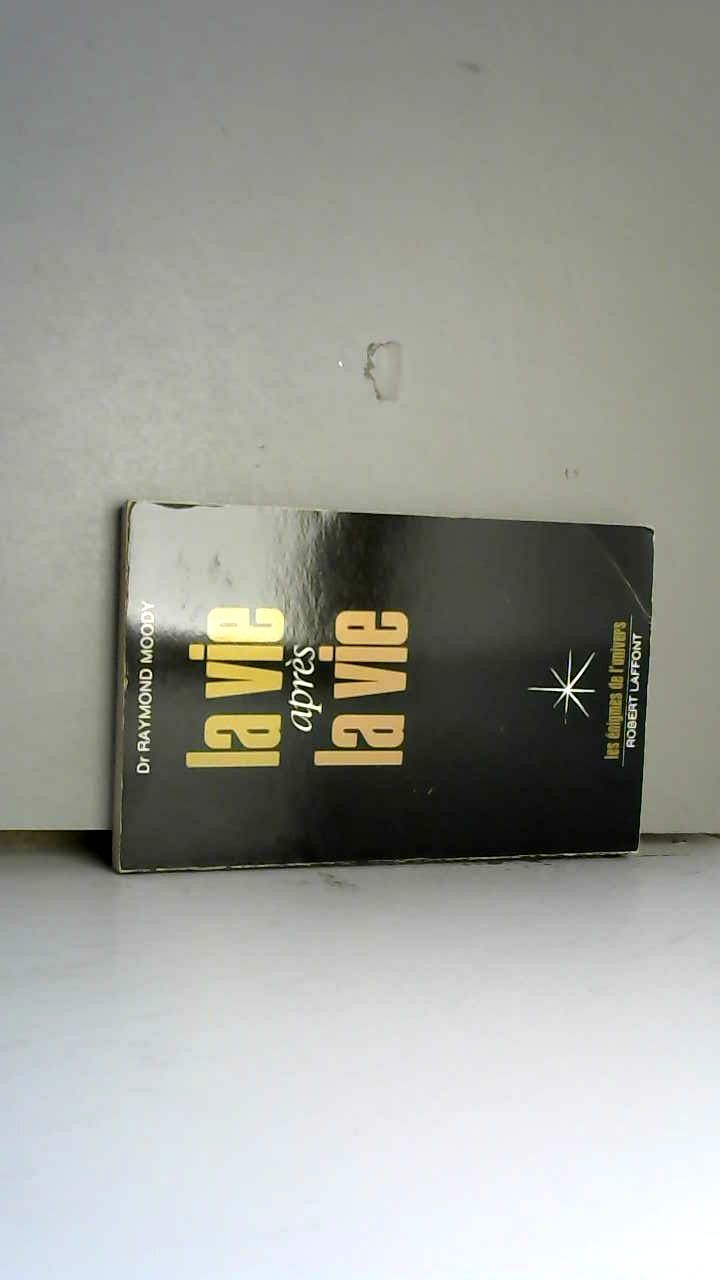book: (90, 479, 671, 904)
